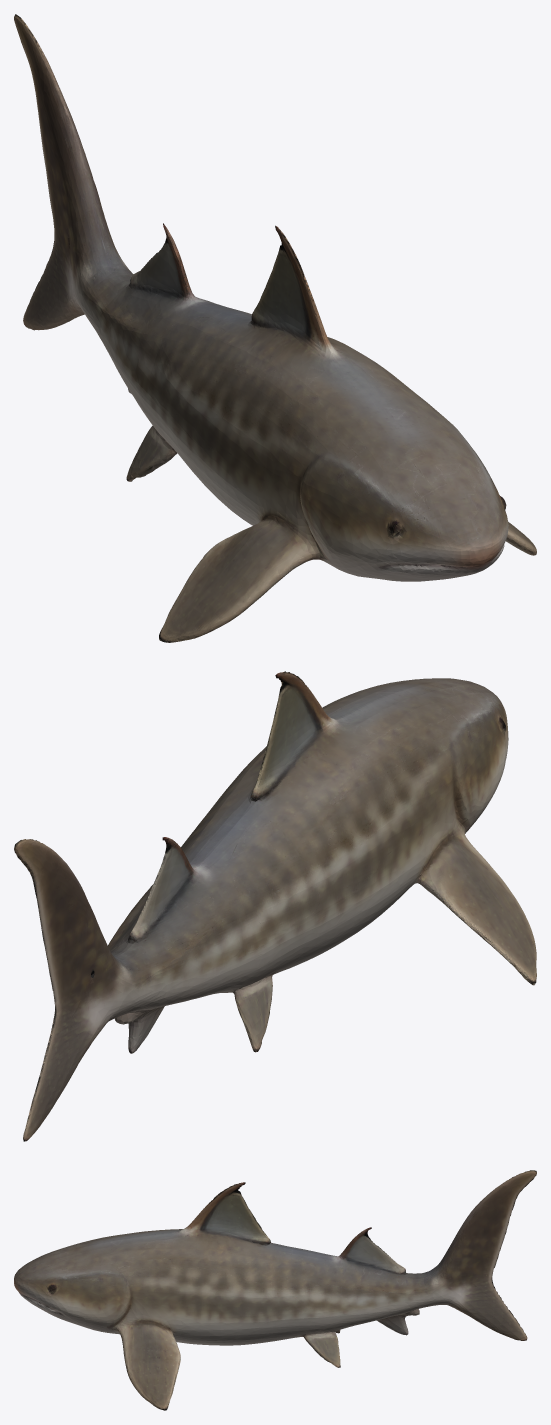
3 renders of one model, top to bottom at view 1: azimuth 30°, elevation 25°; view 2: azimuth 150°, elevation 25°; view 3: azimuth 270°, elevation 25°, orthographic. The views are drawn at different scales.
Parts seen in each view (by area): view 1: world; view 2: world; view 3: world.
Part boxes in pixels (x1,y1,x2,y2): world: (14,14,536,642); world: (14,671,536,1141); world: (14,1170,536,1410).
Size of the model in its own units: 0.4625 by 0.3998 by 1.
1 material, 1 textured.
